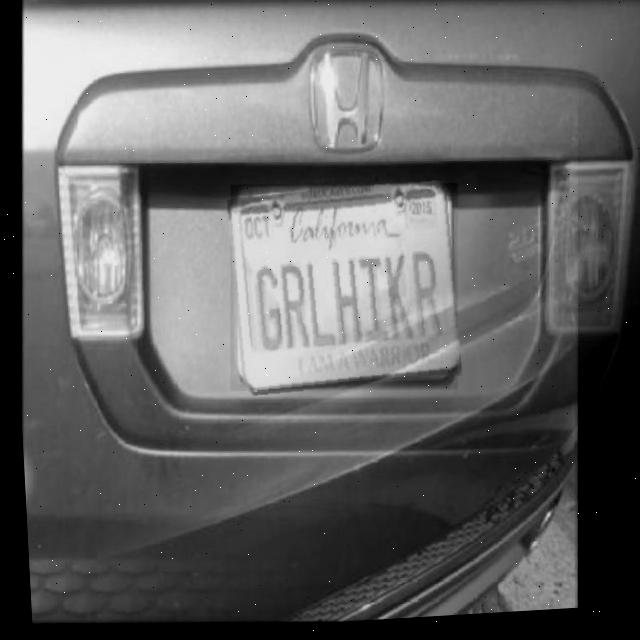LicensePlate: (218, 177, 463, 406)
